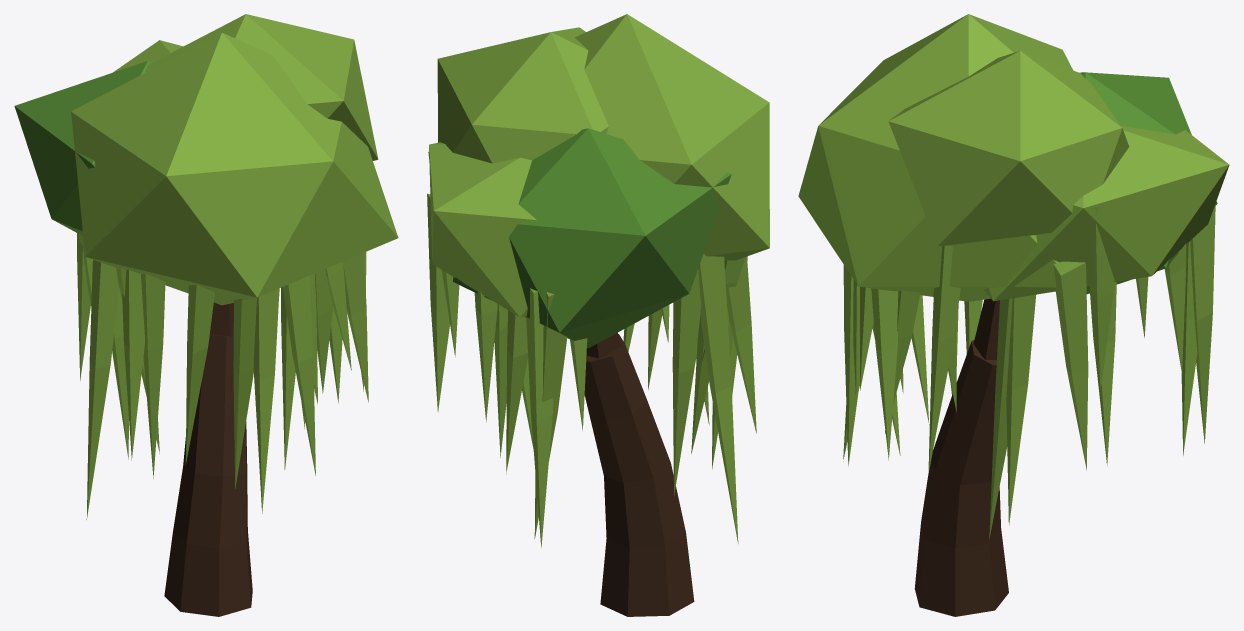
Rendered from Tree_Willow_B.glb.
3 renders of one model, left to right at view 1: azimuth 30°, elevation 25°; view 2: azimuth 150°, elevation 25°; view 3: azimuth 270°, elevation 25°, orthographic. The views are drawn at different scales.
Parts seen in each view (by area): view 1: Tree_Willow_B; view 2: Tree_Willow_B; view 3: Tree_Willow_B.
Boxes of the visible parts, left/top/right/bottom form: Tree_Willow_B: left=14, top=14, right=398, bottom=616; Tree_Willow_B: left=427, top=14, right=769, bottom=616; Tree_Willow_B: left=798, top=14, right=1229, bottom=616.
Size of the model in its own units: 2.42 by 4.42 by 2.92.
